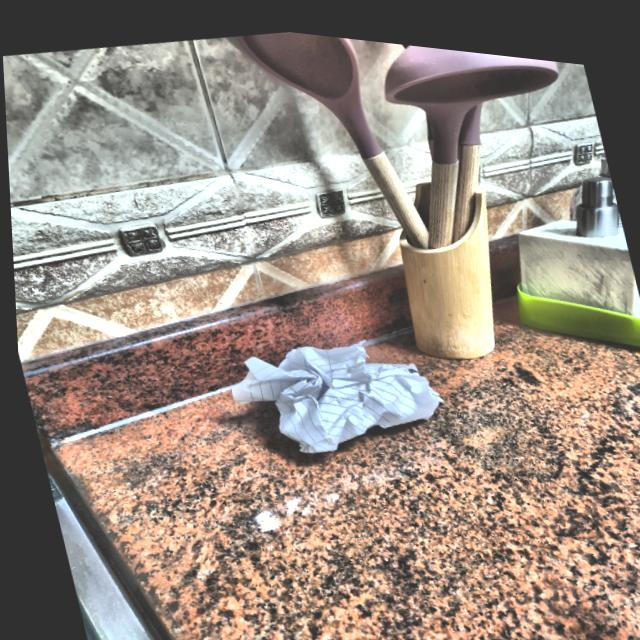Paper: (217, 295, 461, 479)
